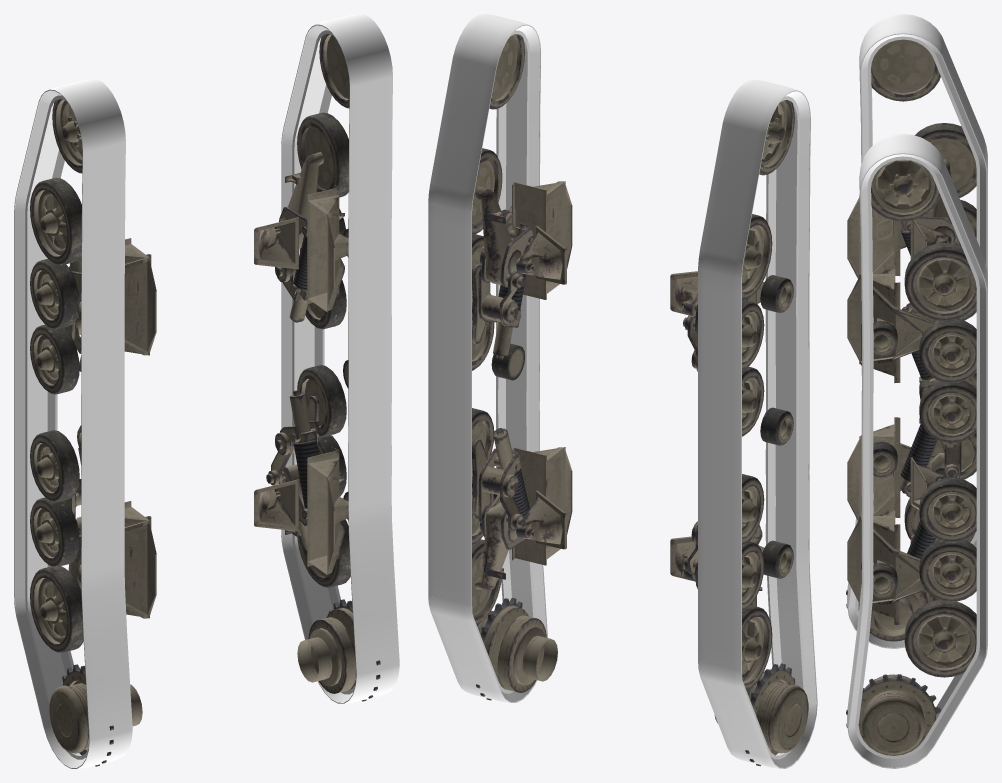
The model's file is Chassis.glb.
3 renders of one model, left to right at view 1: azimuth 30°, elevation 25°; view 2: azimuth 150°, elevation 25°; view 3: azimuth 270°, elevation 25°, orthographic. The views are drawn at different scales.
Visible parts, largest first — view 1: set_1_group_0, set_0_group_0, set_3_group_0, set_2_group_0; view 2: set_1_group_0, set_0_group_0, set_3_group_0, set_2_group_0; view 3: set_3_group_0, set_2_group_0, set_0_group_0, set_1_group_0.
Boxes of the visible parts, x1,y1,x2,y2 form: set_1_group_0: [14, 79, 132, 768]; set_0_group_0: [281, 14, 399, 703]; set_3_group_0: [254, 34, 380, 701]; set_2_group_0: [30, 99, 156, 766]; set_1_group_0: [698, 80, 817, 768]; set_0_group_0: [428, 14, 547, 702]; set_3_group_0: [472, 34, 572, 700]; set_2_group_0: [670, 100, 808, 766]; set_3_group_0: [846, 159, 976, 755]; set_2_group_0: [846, 39, 976, 641]; set_0_group_0: [847, 134, 987, 768]; set_1_group_0: [847, 14, 987, 648].
Bounding box in the file's own units: 2.58 × 5.31 × 1.11.
4 materials, 2 textured.
